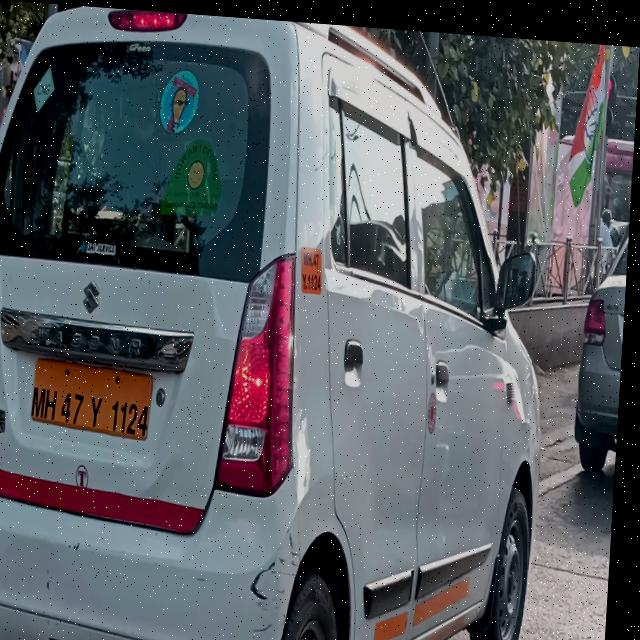plate: (34, 355, 158, 439), (298, 235, 331, 295)
